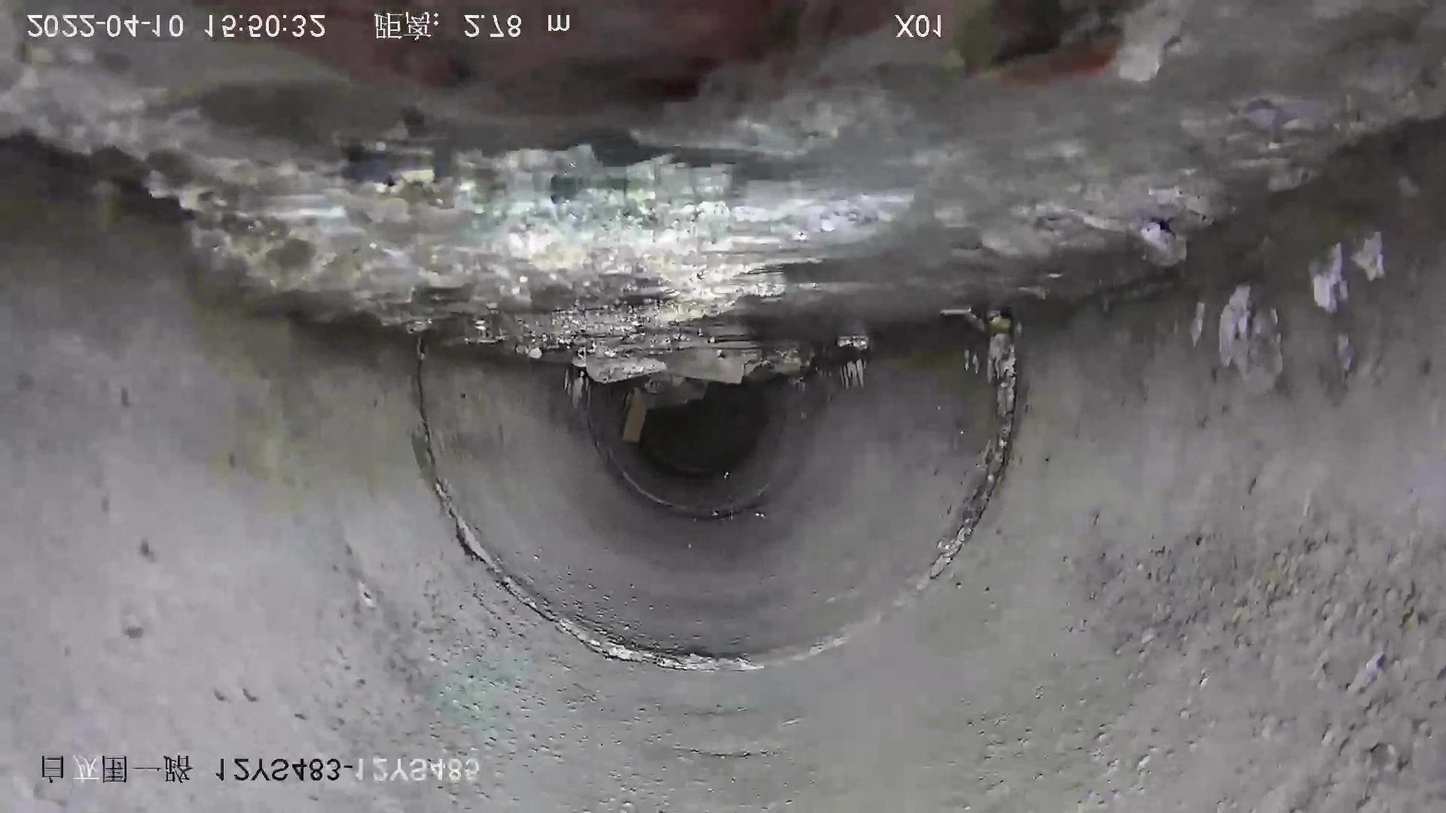CJ: (0, 1, 1445, 440)
CKTJ: (407, 306, 1026, 678)
